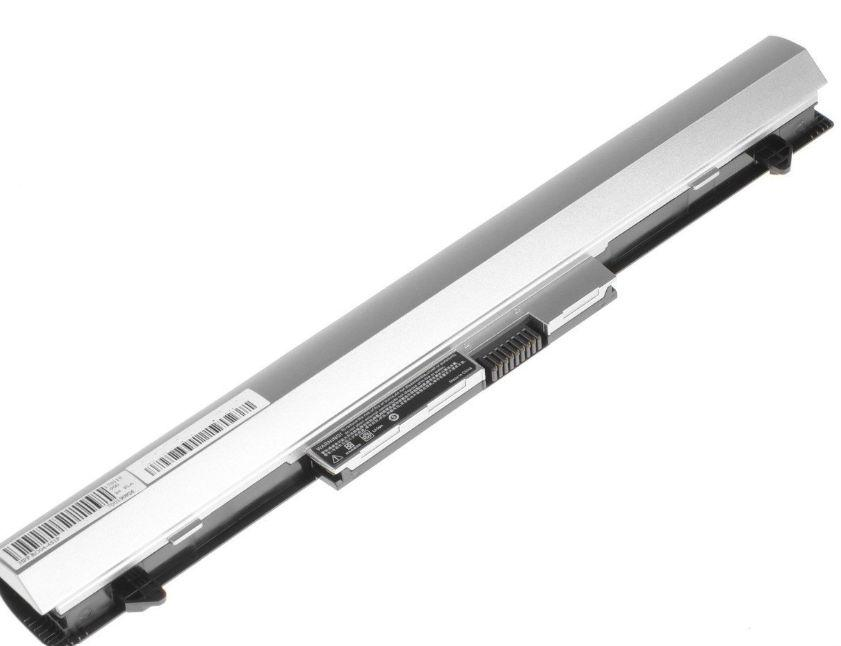battery: (0, 31, 834, 646)
